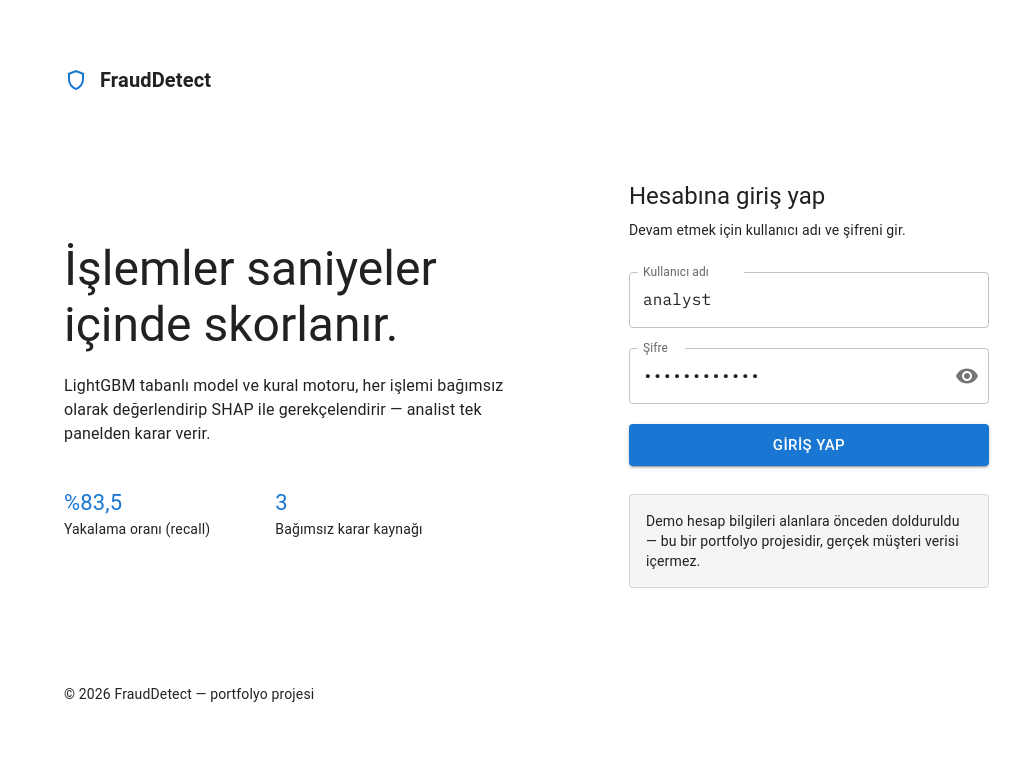
Test: LoginPage › hatalı girişte kullanıcıyı bilgilendiren bir uyarı gösterir, AuthContext güncellenmez
This screenshot has width=1024, height=768.
Click the button "Giriş Yap" at (809,445), box left=629, top=424, right=989, bottom=466
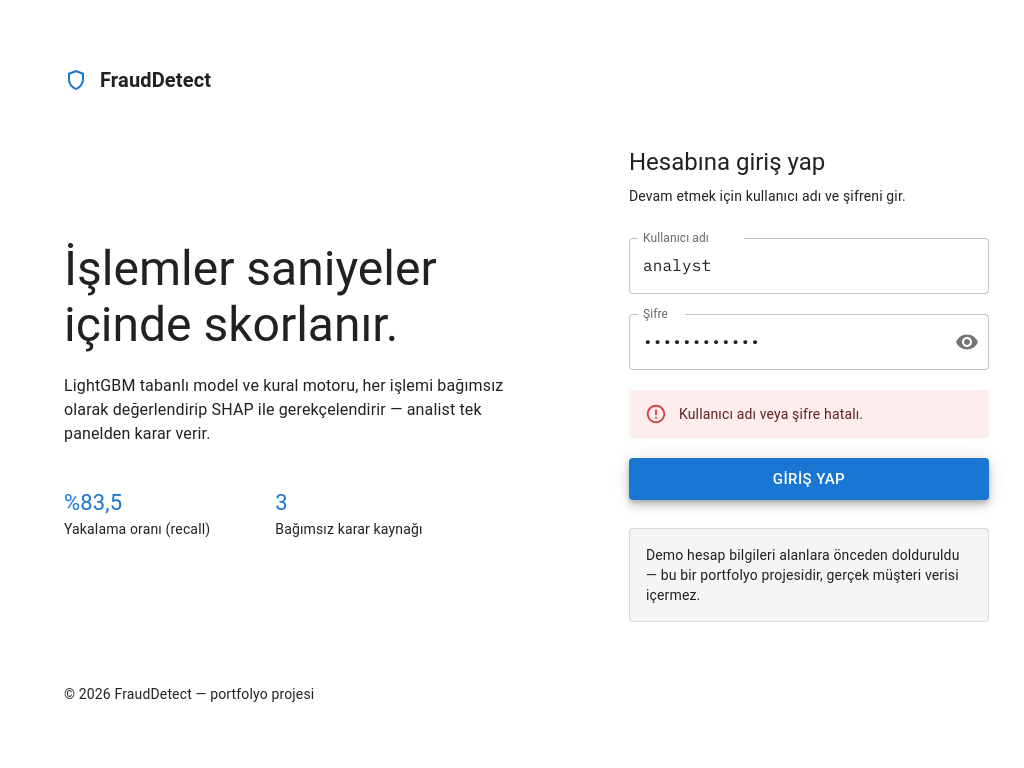
Now the text "Kullanıcı adı veya şifre hatalı." is shown, box left=679, top=406, right=863, bottom=422
